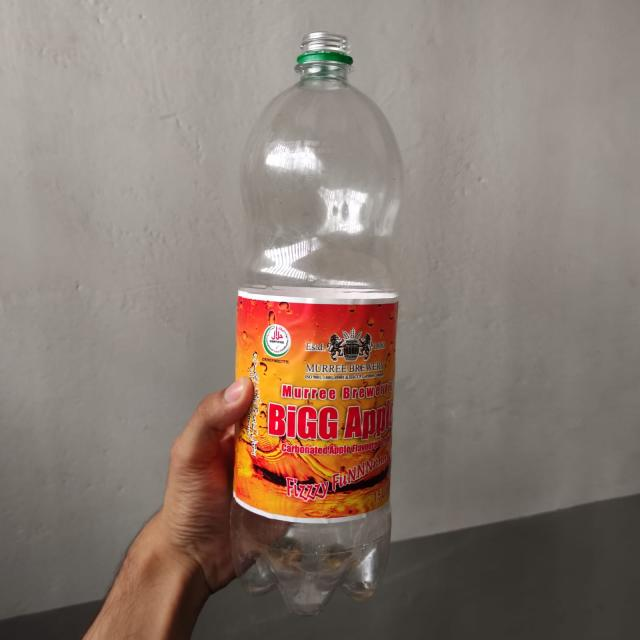bottle: (238, 28, 406, 618)
label: (238, 290, 406, 520)
